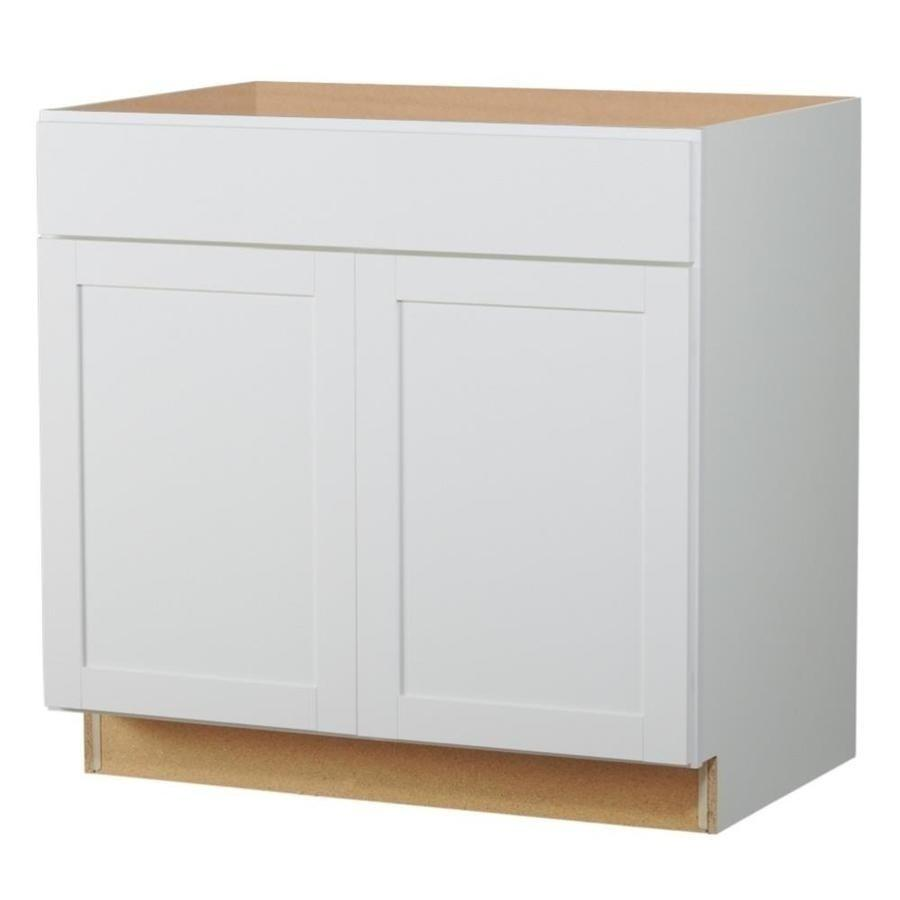cabinet_door: (369, 271, 696, 754), (42, 257, 352, 730)
